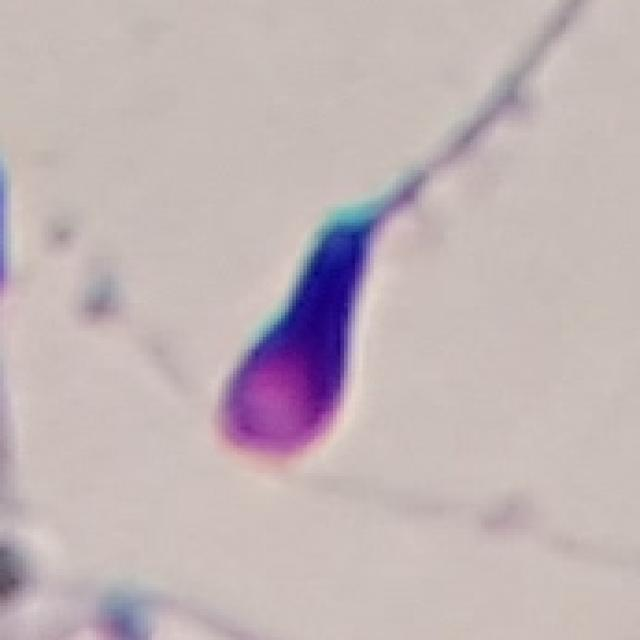abnormal sperm: (215, 118, 485, 460)
